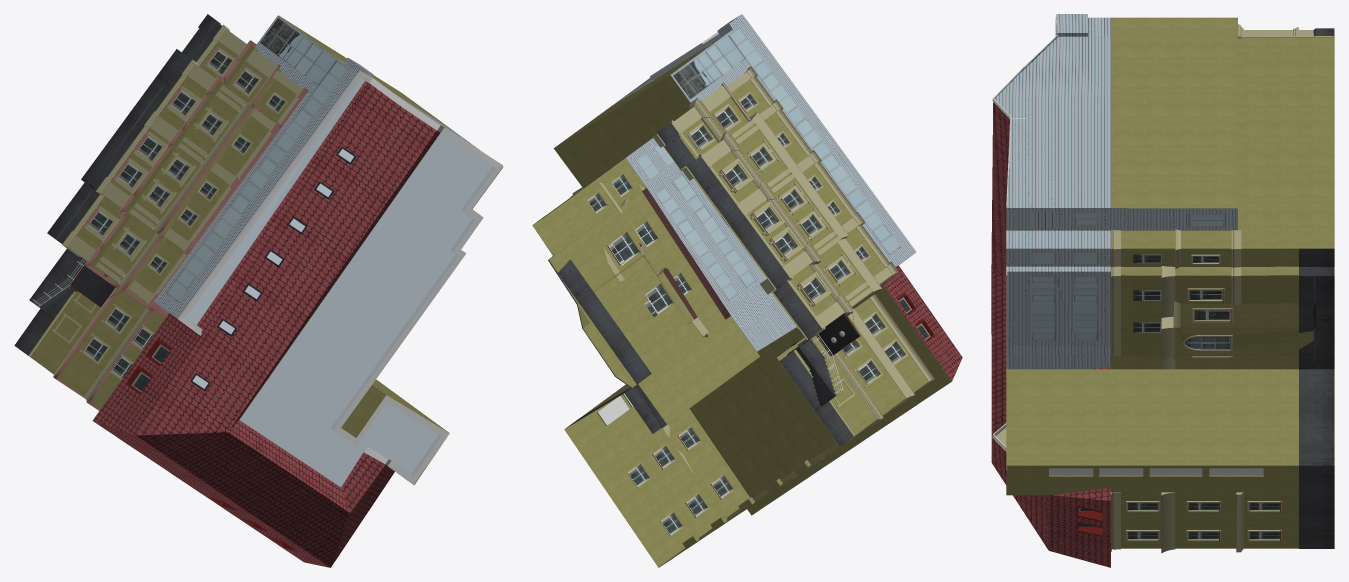
Rendered from Parnu11.obj.
3 views of the same model, side by side, from view 1: azimuth 30°, elevation 25°; view 2: azimuth 150°, elevation 25°; view 3: azimuth 270°, elevation 25° (orthographic). The views are drawn at different scales.
Parts seen in each view (by area): view 1: Plane009; view 2: Plane009; view 3: Plane009.
Part boxes in pixels (x1,y1,x2,y2): Plane009: (14, 14, 503, 567); Plane009: (532, 14, 962, 567); Plane009: (991, 14, 1334, 567).
Size of the model in its own units: 29.67 by 39.15 by 21.26.
